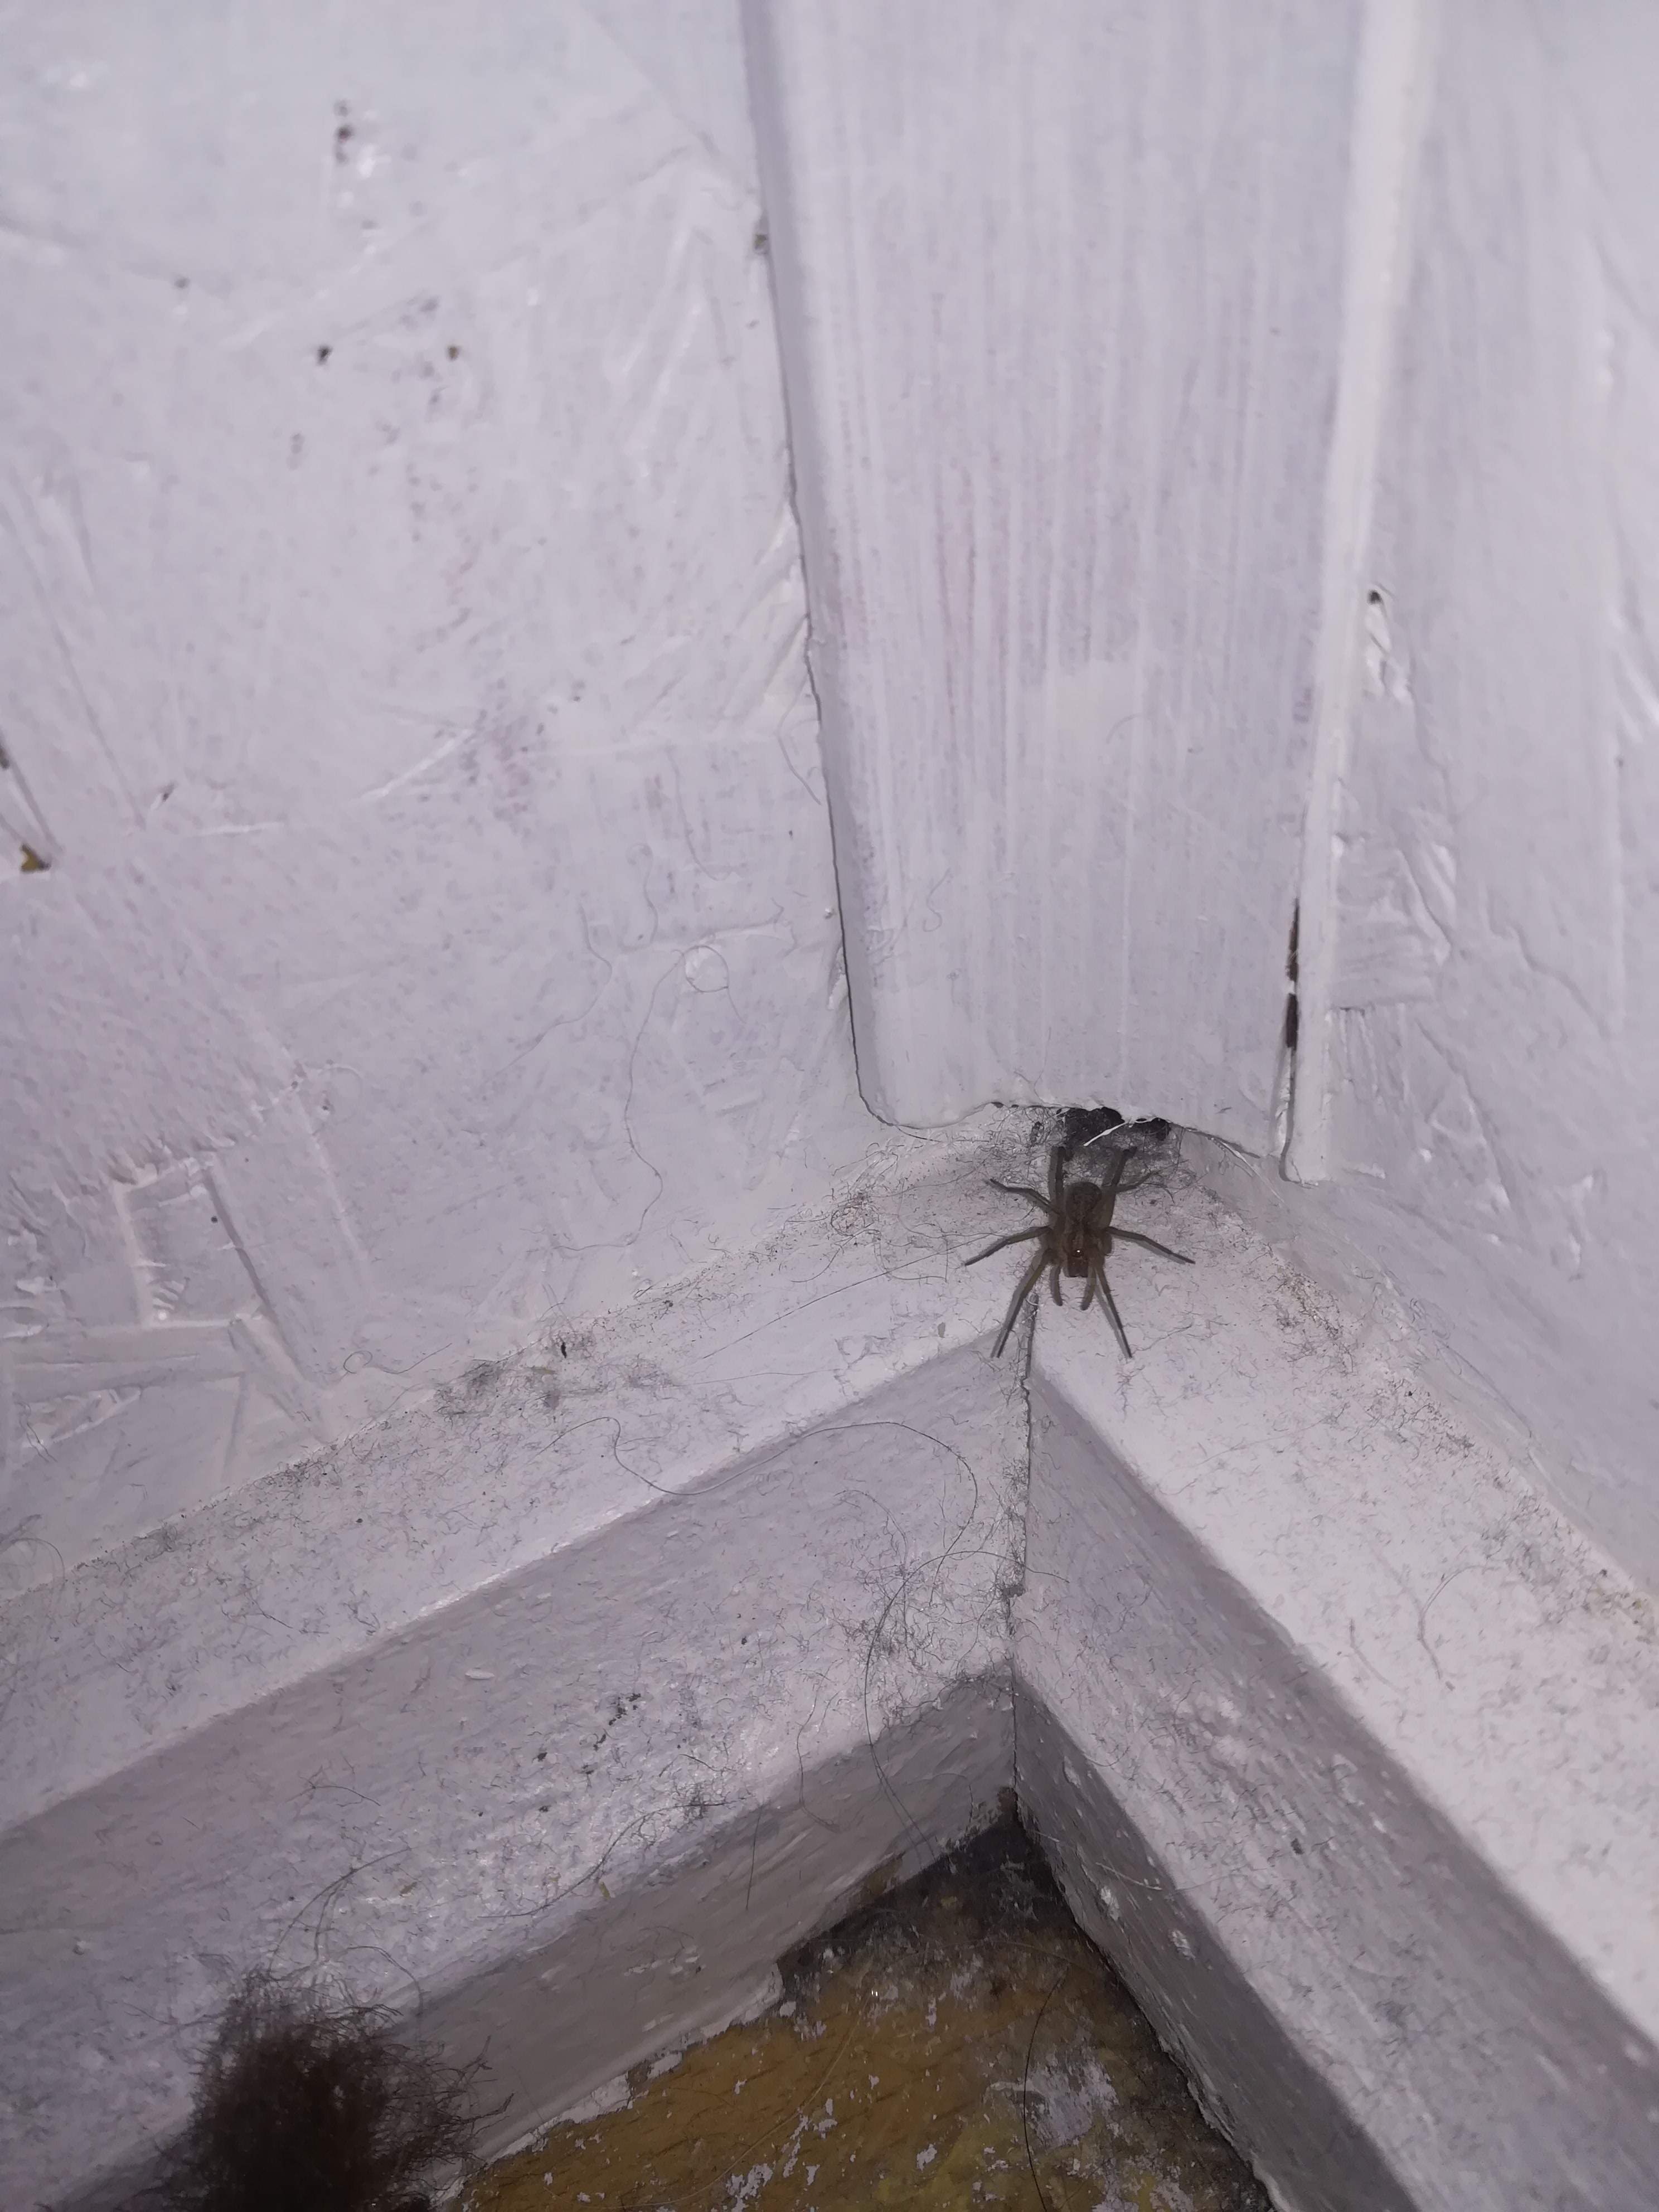spider: (903, 1076, 1253, 1404)
